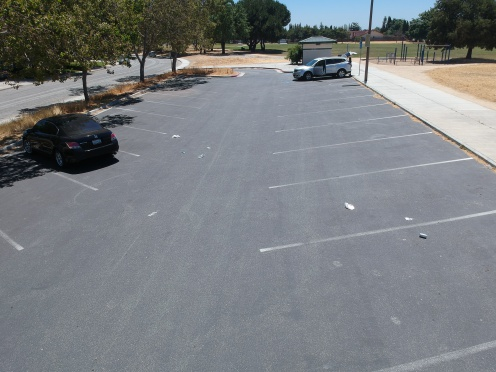bottle: (195, 152, 209, 162)
can: (417, 231, 429, 240)
plastic bag: (340, 197, 359, 214)
